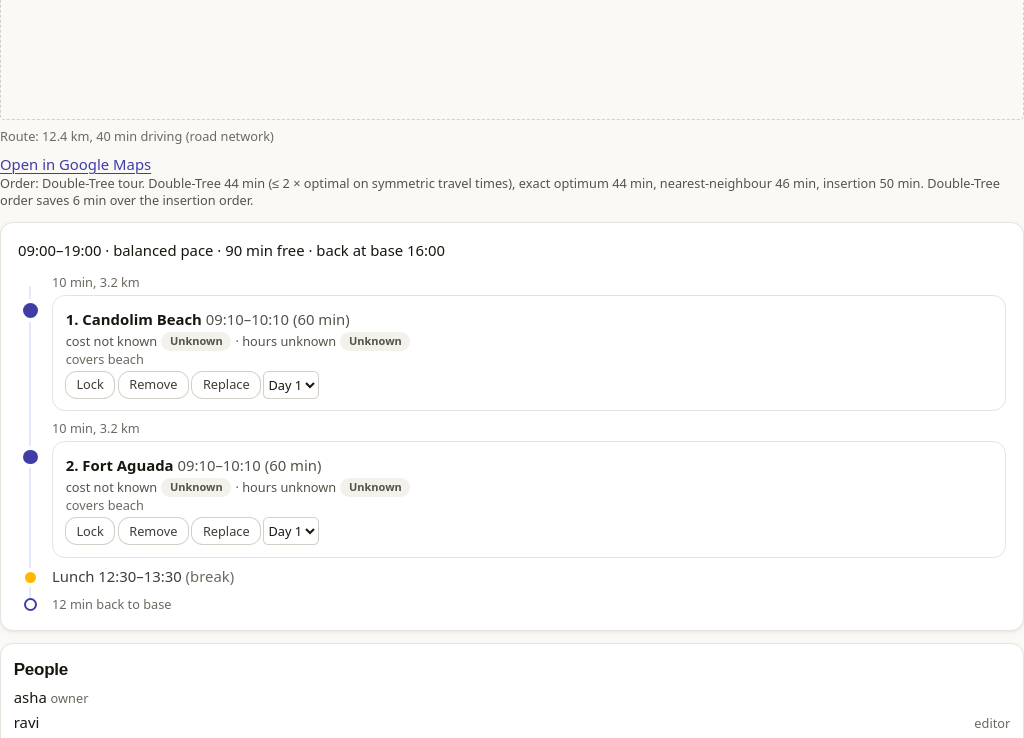
Test: editor edit saves through the trip with the version it was based on
The width and height of the screenshot is (1024, 738).
(page scrolled)
Click the button with aria-label "Remove Candolim Beach": (153, 385) [119,372,188,398]
(page scrolled)
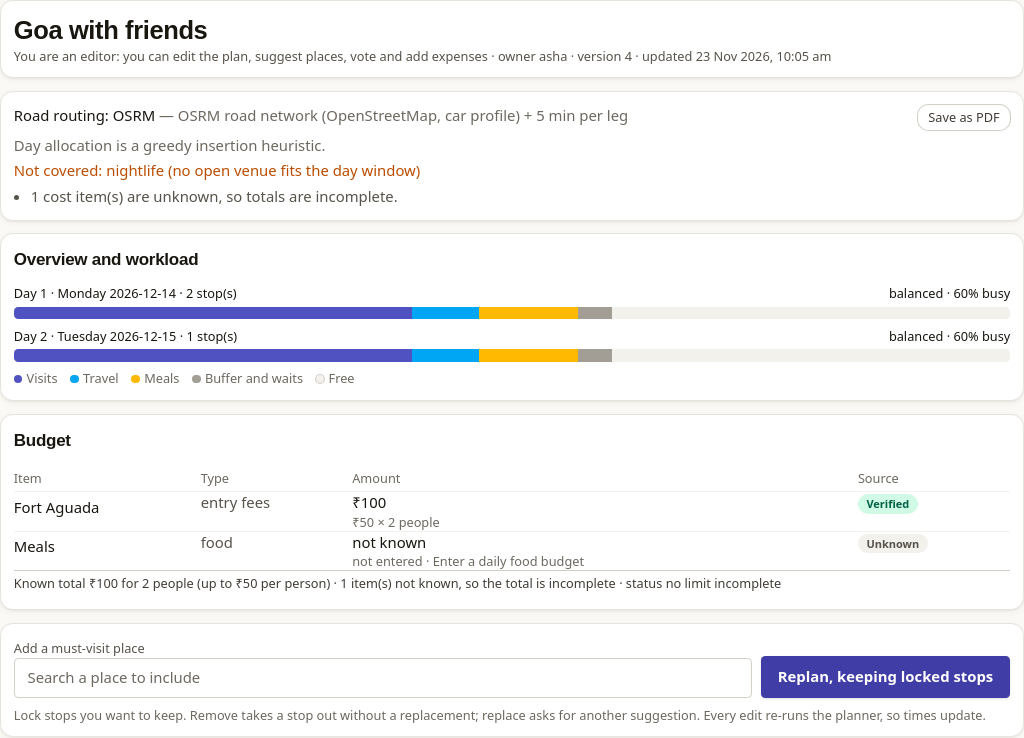
Expected: the text "version 4" is shown, [14,47,831,65]
